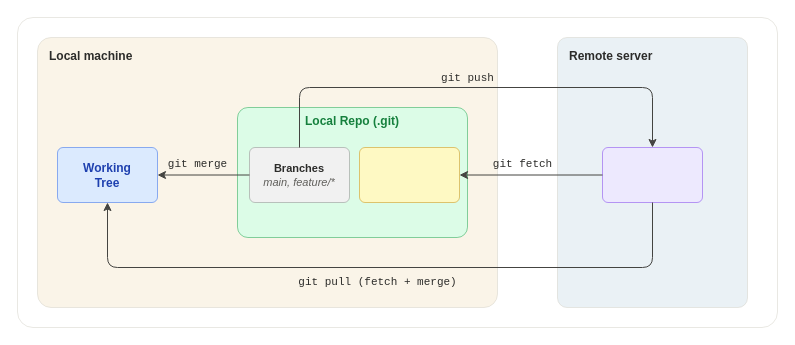
Image size: 795x345. Some labels were removed from this diagram. Here are the shapes that lost their labels. From the top down, the centre of each, then its label:
At (409,174): "Remote-tracking origin/main".
At (652,174): "Remote Repo".
